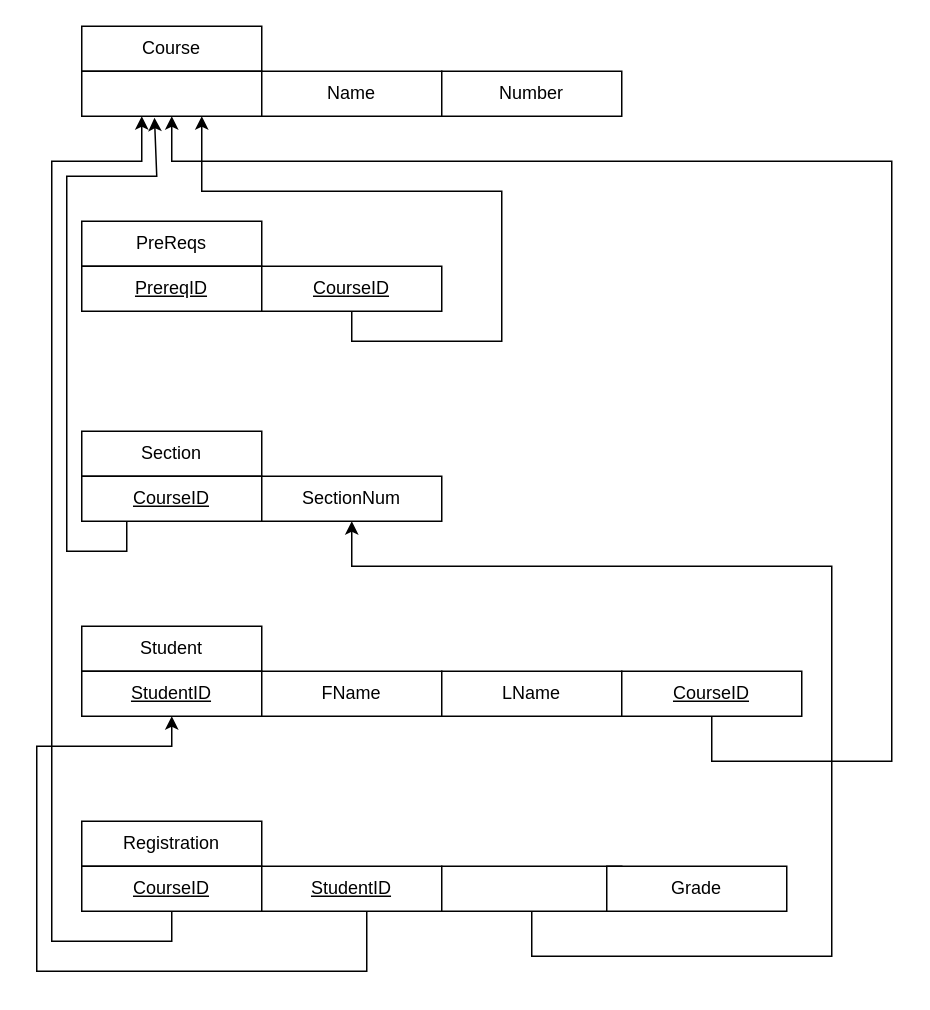
This 930x1010 diagram has some shape labels left out. Each missing label, with the box of its shape:
ID: (80, 70, 262, 116)
SectionID: (440, 865, 622, 911)
